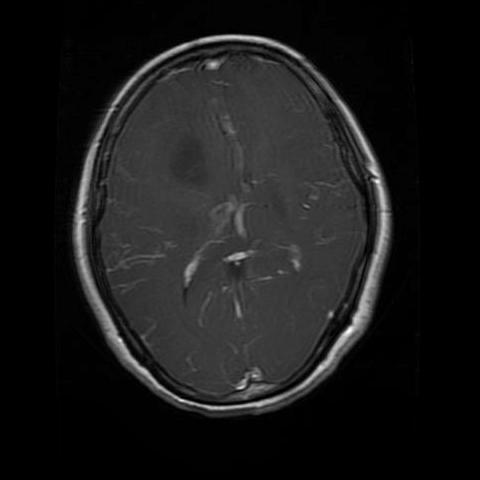Tumour-Glioma: (167, 133, 220, 188)
